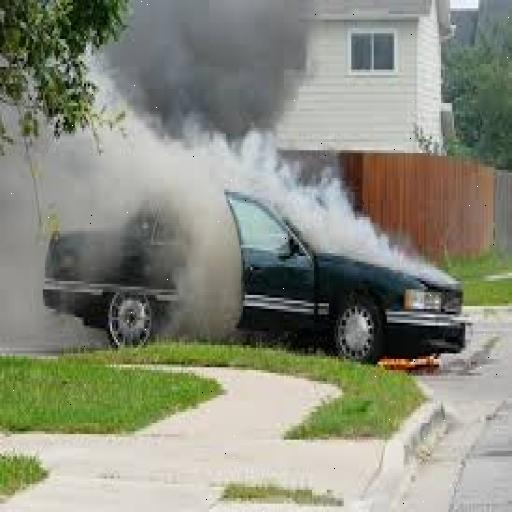smoke: (2, 125, 439, 342)
